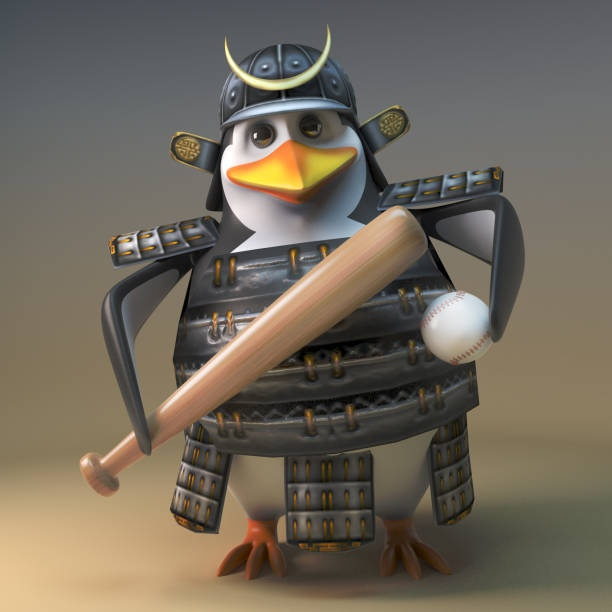bita: (81, 217, 431, 491)
